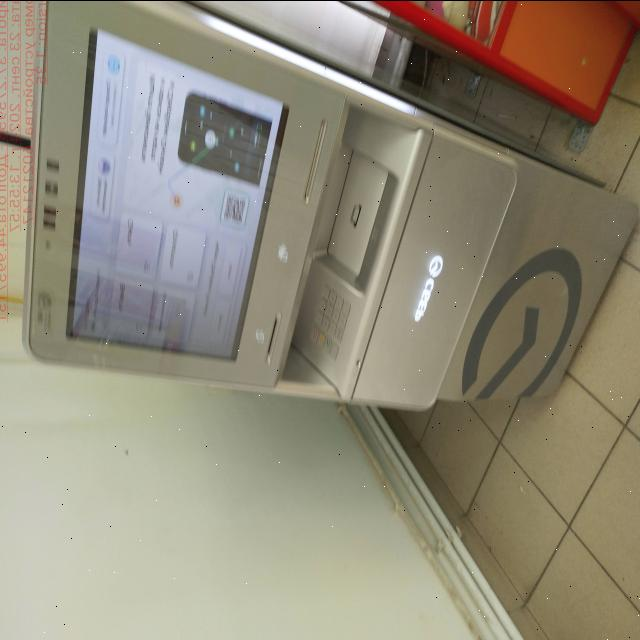bank: (15, 0, 640, 425)
